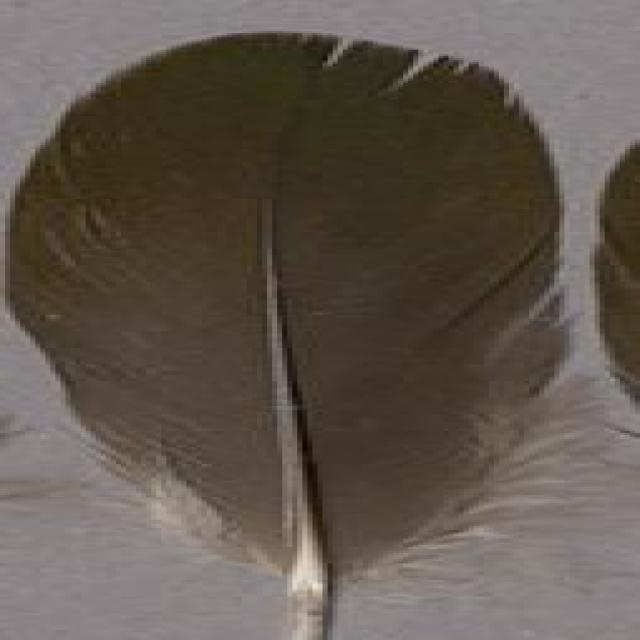feather: (4, 31, 568, 640)
